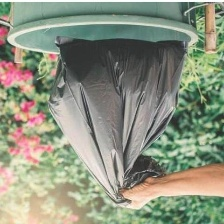plastic_bag: (44, 33, 197, 211)
